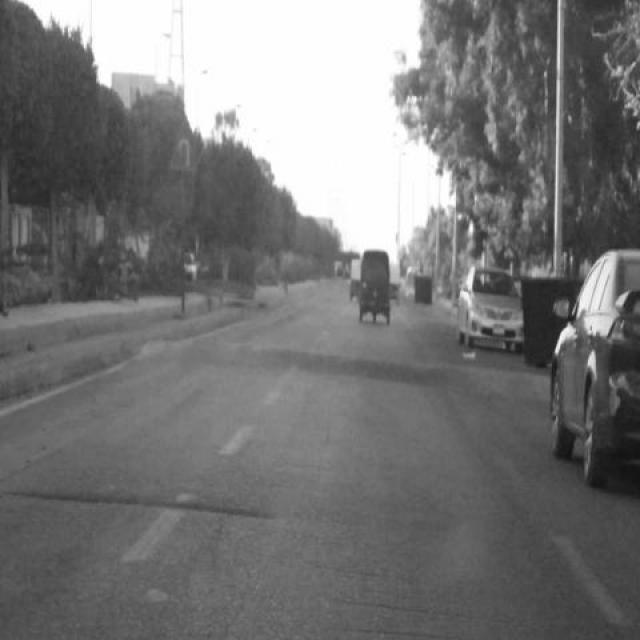Pothole: (16, 478, 270, 528)
Unmarked Bump: (143, 341, 553, 404)
